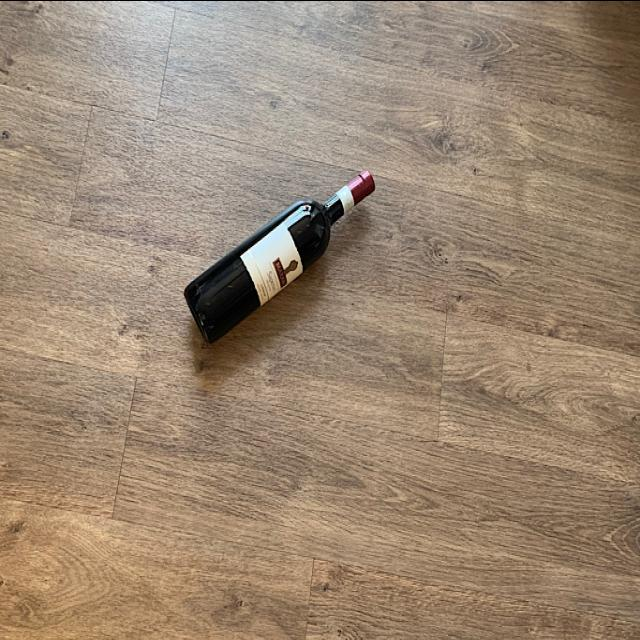Glass Bottle: (180, 160, 380, 346)
